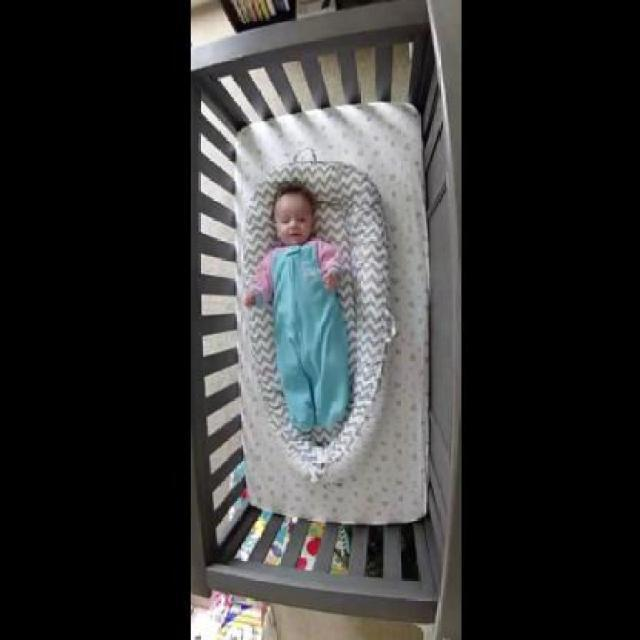baby: (242, 176, 352, 435)
